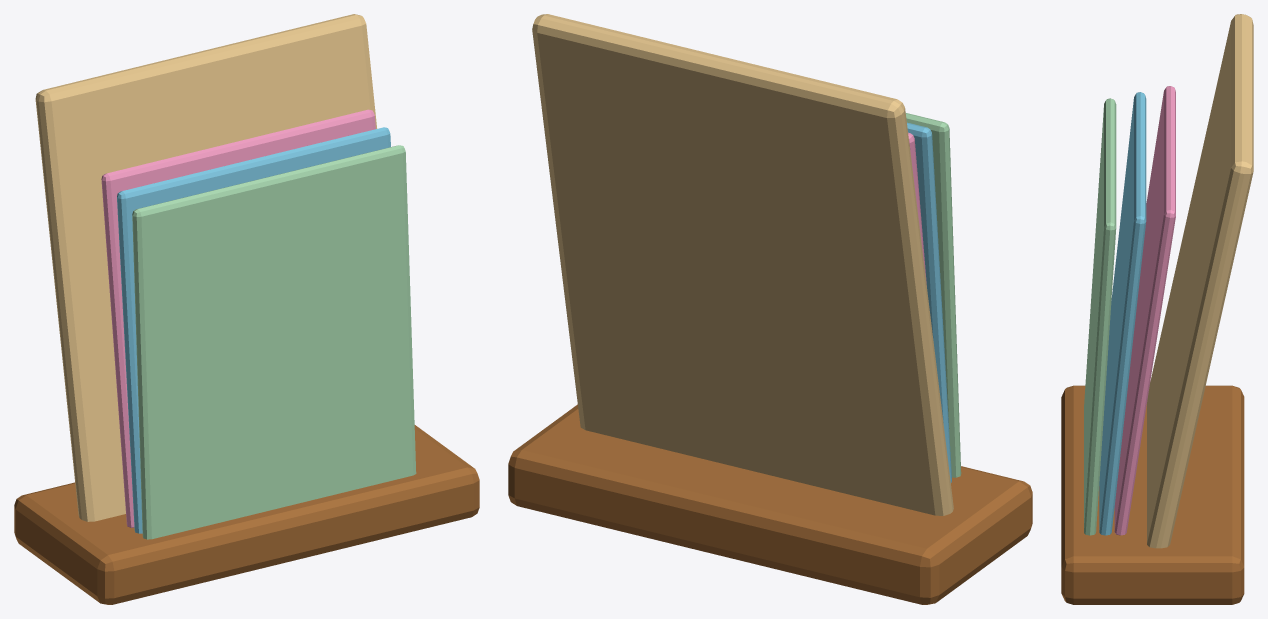
The model's file is sticker_pack.glb.
3 views of the same model, side by side, from view 1: azimuth 30°, elevation 25°; view 2: azimuth 150°, elevation 25°; view 3: azimuth 270°, elevation 25° (orthographic). The views are drawn at different scales.
Parts seen in each view (by area): view 1: sticker_pack_mint, sticker_pack_kraft, sticker_pack_wood, sticker_pack_blue, sticker_pack_pink; view 2: sticker_pack_kraft, sticker_pack_wood, sticker_pack_mint, sticker_pack_blue; view 3: sticker_pack_wood, sticker_pack_kraft, sticker_pack_pink, sticker_pack_blue, sticker_pack_mint.
Part boxes in pixels (x1,y1,x2,y2): sticker_pack_mint: [132, 145, 416, 539]; sticker_pack_kraft: [35, 14, 377, 521]; sticker_pack_wood: [14, 425, 479, 604]; sticker_pack_blue: [117, 127, 390, 533]; sticker_pack_pink: [101, 109, 375, 527]; sticker_pack_kraft: [532, 14, 953, 515]; sticker_pack_wood: [508, 404, 1032, 604]; sticker_pack_mint: [905, 113, 961, 477]; sticker_pack_blue: [907, 122, 951, 482]; sticker_pack_wood: [1061, 385, 1244, 604]; sticker_pack_kraft: [1147, 14, 1253, 548]; sticker_pack_pink: [1114, 86, 1175, 535]; sticker_pack_blue: [1099, 92, 1146, 535]; sticker_pack_mint: [1084, 98, 1116, 535].
Bounding box in the file's own units: 0.28 × 0.3123 × 0.126.
